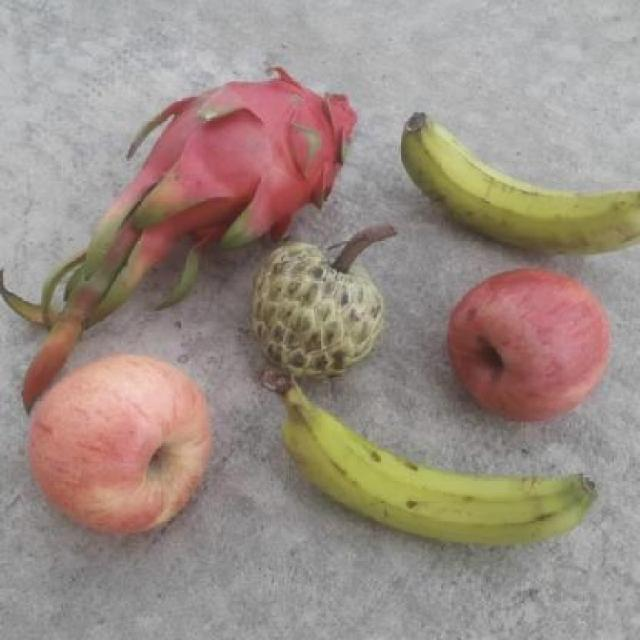apple: (22, 356, 210, 530), (444, 266, 621, 422)
banana: (283, 403, 599, 545), (399, 104, 639, 258)
dragon fruit: (158, 70, 360, 242)
sugar apple: (246, 238, 386, 382)
